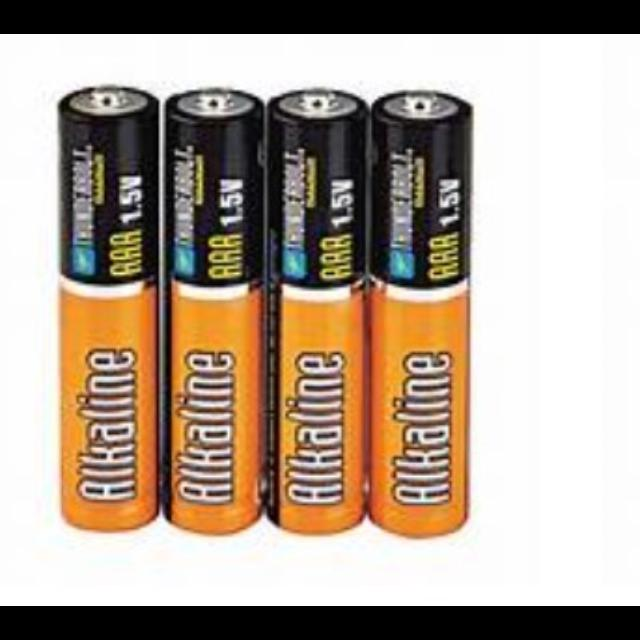Battery: (364, 90, 474, 542)
